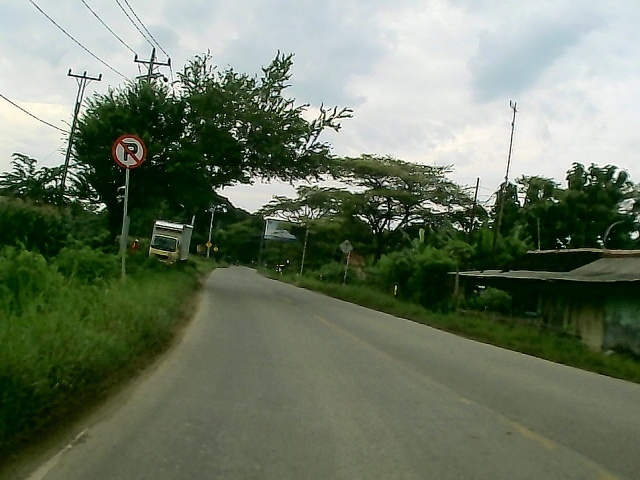Dilarang parkir: (111, 132, 148, 170)
